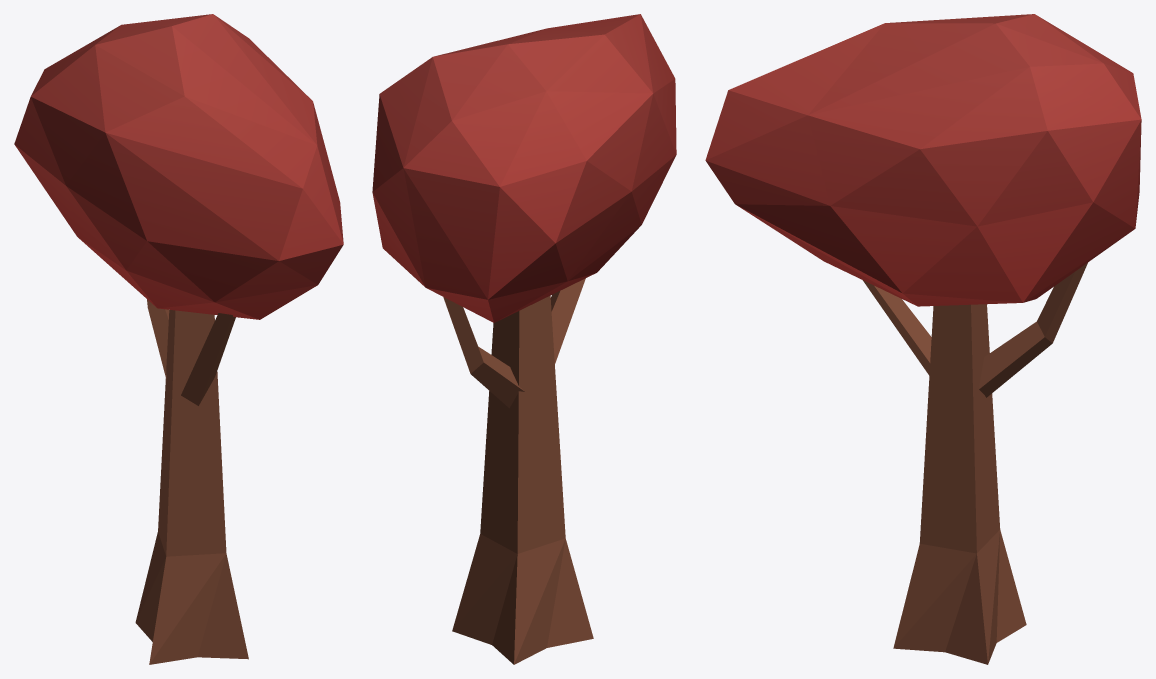
File: Tree_37_gradient_red_vc.fbx
3 views of the same model, side by side, from view 1: azimuth 30°, elevation 25°; view 2: azimuth 150°, elevation 25°; view 3: azimuth 270°, elevation 25° (orthographic).
Parts seen in each view (by area): view 1: Tree_37_gradient_red_vc; view 2: Tree_37_gradient_red_vc; view 3: Tree_37_gradient_red_vc.
Boxes of the visible parts, x1,y1,x2,y2 form: Tree_37_gradient_red_vc: (14, 14, 343, 664); Tree_37_gradient_red_vc: (372, 14, 676, 664); Tree_37_gradient_red_vc: (705, 14, 1141, 664).
Size of the model in its own units: 93.74 by 233 by 151.
